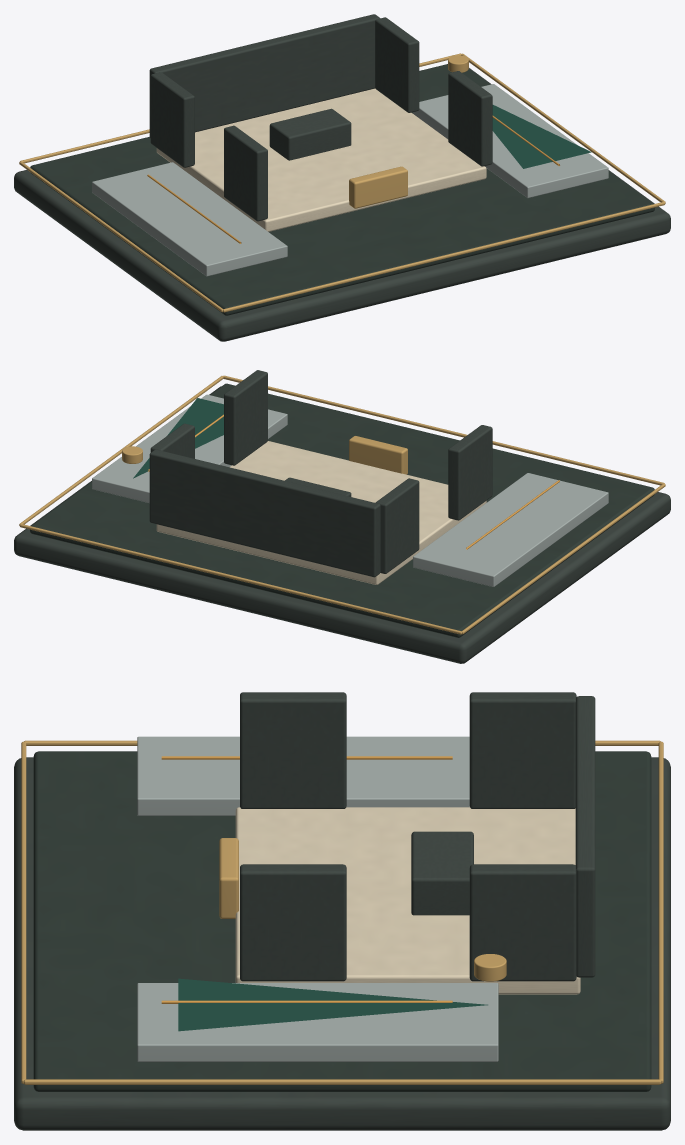
Rendered from archive-route.glb.
The picture shows the model from 3 angles, top to bottom: view 1: azimuth 30°, elevation 25°; view 2: azimuth 150°, elevation 25°; view 3: azimuth 270°, elevation 25°; orthographic projection. The views are drawn at different scales.
Parts seen in each view (by area): view 1: felt_insert, room_floor, display_base, room_north_wall, west_corridor, east_corridor, door_wall_segment.002, door_wall_segment.003, door_wall_segment.001, door_wall_segment, private_desk, camera_coverage (+5 smaller); view 2: felt_insert, display_base, room_north_wall, west_corridor, room_floor, east_corridor, door_wall_segment, door_wall_segment.002, door_wall_segment.001, brass_rim_Back, brass_rim_Front, archive_door (+4 smaller); view 3: felt_insert, display_base, room_floor, east_corridor, west_corridor, door_wall_segment.002, door_wall_segment.001, door_wall_segment, door_wall_segment.003, camera_coverage, room_north_wall, private_desk (+8 smaller).
Part boxes in pixels (left/top/right/bottom): felt_insert: left=30, top=64, right=654, bottom=315; room_floor: left=156, top=88, right=486, bottom=231; display_base: left=14, top=68, right=670, bottom=341; room_north_wall: left=149, top=14, right=380, bottom=138; west_corridor: left=92, top=162, right=287, bottom=276; east_corridor: left=413, top=84, right=608, bottom=197; door_wall_segment.002: left=448, top=71, right=492, bottom=166; door_wall_segment.003: left=375, top=17, right=419, bottom=112; door_wall_segment.001: left=150, top=72, right=194, bottom=167; door_wall_segment: left=224, top=125, right=267, bottom=221; private_desk: left=269, top=108, right=351, bottom=160; camera_coverage: left=492, top=105, right=591, bottom=168; felt_insert: left=30, top=383, right=654, bottom=637; display_base: left=14, top=386, right=670, bottom=663; room_north_wall: left=149, top=449, right=380, bottom=577; west_corridor: left=413, top=473, right=608, bottom=586; room_floor: left=156, top=441, right=486, bottom=584; east_corridor: left=92, top=394, right=287, bottom=502; door_wall_segment: left=448, top=425, right=492, bottom=520; door_wall_segment.002: left=224, top=370, right=267, bottom=465; door_wall_segment.001: left=375, top=478, right=419, bottom=573; brass_rim_Back: left=20, top=524, right=461, bottom=634; brass_rim_Front: left=223, top=375, right=664, bottom=485; archive_door: left=349, top=436, right=407, bottom=474; felt_insert: left=33, top=751, right=651, bottom=1091; display_base: left=14, top=757, right=670, bottom=1130; room_floor: left=235, top=807, right=580, bottom=994; east_corridor: left=137, top=983, right=498, bottom=1061; west_corridor: left=137, top=736, right=469, bottom=815; door_wall_segment.002: left=240, top=864, right=346, bottom=981; door_wall_segment.001: left=469, top=692, right=576, bottom=808; door_wall_segment: left=240, top=692, right=346, bottom=808; door_wall_segment.003: left=469, top=864, right=576, bottom=981; camera_coverage: left=178, top=978, right=487, bottom=1031; room_north_wall: left=575, top=696, right=595, bottom=977; private_desk: left=411, top=831, right=473, bottom=915.
Size of the model in its own units: 0.5 by 0.12 by 0.4.
Materials: 7 (3 with a texture image).
